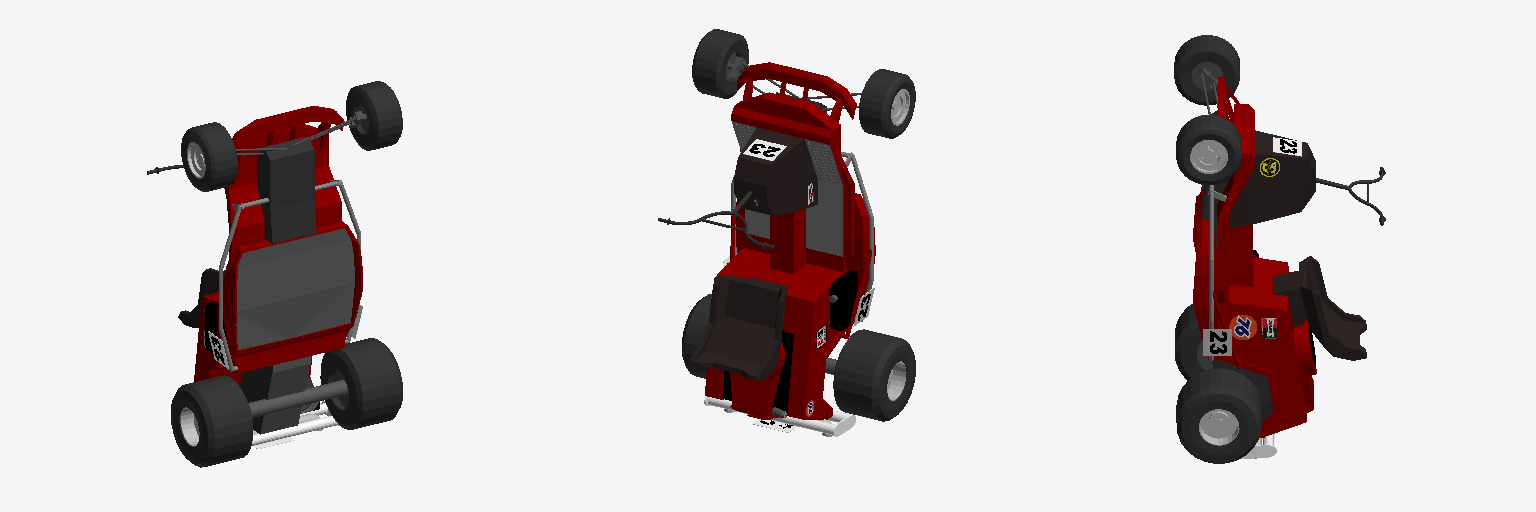
3 views of the same model, side by side, from view 1: azimuth 30°, elevation 25°; view 2: azimuth 150°, elevation 25°; view 3: azimuth 270°, elevation 25° (orthographic).
Parts seen in each view (by area): view 1: Mesh36_Mod_06, Mesh36_Mod_05, Mesh36_Mod, Mesh20_whe, Mesh2_whee, Mesh1_whee, Mesh19_whe, Mesh34_Mod, Mesh35_Mod_1, Mesh36_Mod_07, Mesh7_rear, Mesh3_chai (+1 smaller); view 2: Mesh36_Mod_05, Mesh3_chai, Mesh20_whe, Mesh36_Mod_03, Mesh36_Mod_07, Mesh1_whee, Mesh19_whe, Mesh34_Mod, Mesh36_Mod_11, Mesh2_whee, Mesh6_rear, Mesh20_whe_1; view 3: Mesh36_Mod_05, Mesh2_whee, Mesh36_Mod_03, Mesh3_chai, Mesh19_whe, Mesh1_whee, Mesh20_whe, Mesh36_Mod, Mesh2_whee_1, Mesh1_whee_1, Mesh36_Mod_07, Mesh36_Mod_13 (+2 smaller).
Boxes of the visible parts, x1,y1,x2,y2 form: Mesh36_Mod_06: [204, 228, 354, 434]; Mesh36_Mod_05: [194, 124, 362, 386]; Mesh36_Mod: [240, 136, 316, 433]; Mesh20_whe: [171, 375, 252, 467]; Mesh2_whee: [320, 338, 402, 429]; Mesh1_whee: [346, 81, 402, 150]; Mesh19_whe: [181, 122, 237, 191]; Mesh34_Mod: [232, 106, 344, 168]; Mesh35_Mod_1: [248, 380, 347, 417]; Mesh36_Mod_07: [219, 180, 360, 371]; Mesh7_rear: [252, 416, 338, 445]; Mesh3_chai: [178, 268, 225, 327]; Mesh36_Mod_05: [705, 92, 875, 419]; Mesh3_chai: [689, 275, 788, 380]; Mesh20_whe: [833, 329, 915, 421]; Mesh36_Mod_03: [734, 127, 817, 215]; Mesh36_Mod_07: [731, 121, 873, 321]; Mesh1_whee: [692, 29, 748, 98]; Mesh19_whe: [859, 69, 915, 138]; Mesh34_Mod: [737, 62, 856, 122]; Mesh36_Mod_11: [722, 270, 857, 413]; Mesh2_whee: [682, 294, 711, 378]; Mesh6_rear: [708, 397, 834, 434]; Mesh20_whe_1: [887, 361, 906, 400]; Mesh36_Mod_05: [1193, 104, 1316, 437]; Mesh2_whee: [1176, 368, 1261, 463]; Mesh36_Mod_03: [1229, 130, 1315, 228]; Mesh3_chai: [1273, 256, 1366, 360]; Mesh19_whe: [1174, 35, 1239, 105]; Mesh1_whee: [1176, 115, 1241, 185]; Mesh20_whe: [1175, 304, 1208, 380]; Mesh36_Mod: [1202, 110, 1273, 422]; Mesh2_whee_1: [1199, 409, 1239, 445]; Mesh1_whee_1: [1190, 140, 1227, 173]; Mesh36_Mod_07: [1208, 185, 1226, 360]; Mesh36_Mod_13: [1229, 315, 1256, 339].
Size of the model in its own units: 131 by 224 by 122.
Materials: 63 (6 with a texture image).